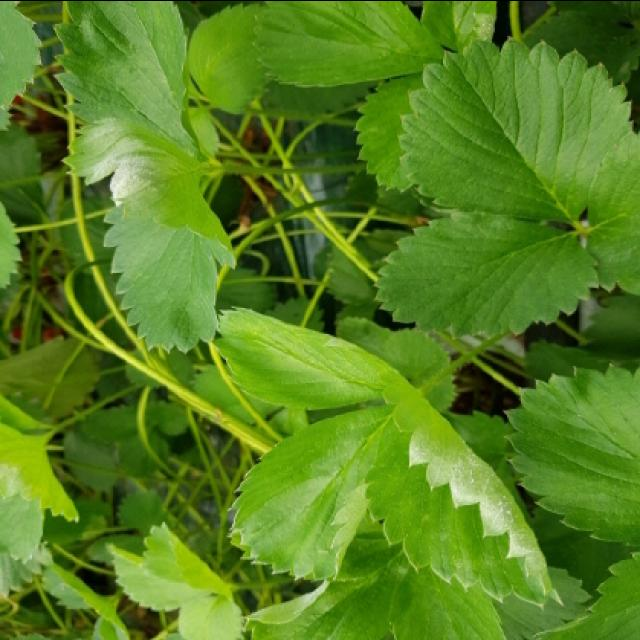Powdery Mildew Leaf: (365, 389, 565, 607), (60, 114, 237, 355)
